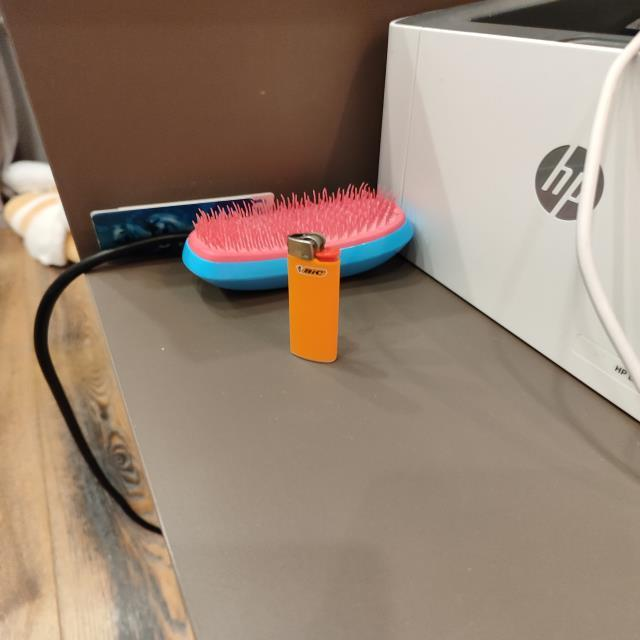lighter: (288, 233, 338, 361)
